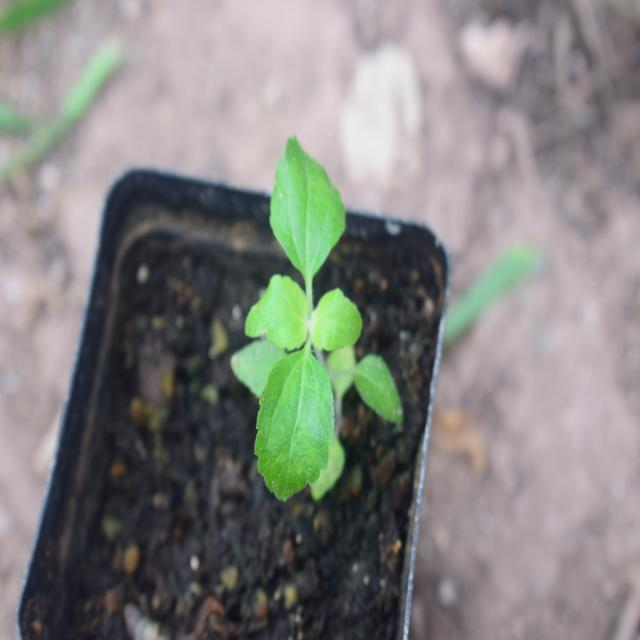billygoat_weed: (196, 133, 395, 490)
